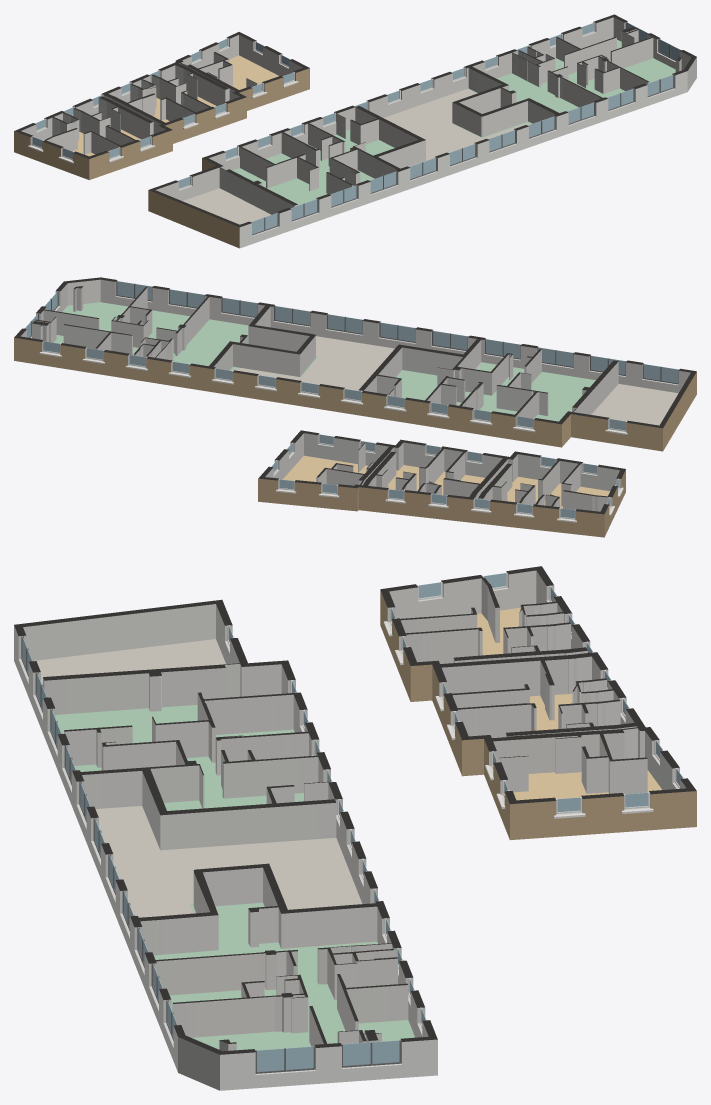
The model's file is cut-0.glb.
3 renders of one model, top to bottom at view 1: azimuth 30°, elevation 25°; view 2: azimuth 150°, elevation 25°; view 3: azimuth 270°, elevation 25°, orthographic. The views are drawn at different scales.
Visible parts, largest first — view 1: cut floor; view 2: cut floor; view 3: cut floor.
Part boxes in pixels (x1,y1,x2,y2): cut floor: [14, 14, 696, 248]; cut floor: [14, 277, 696, 537]; cut floor: [14, 566, 696, 1090].
Size of the model in its own units: 43.7 by 1.52 by 25.81.
